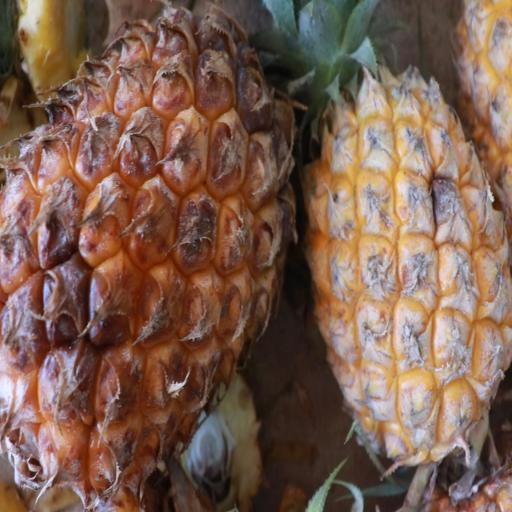Pineapple - v8 v1: (0, 0, 305, 501), (304, 3, 512, 481)
